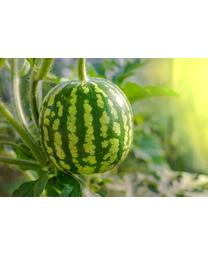watermelon: (38, 75, 135, 175)
